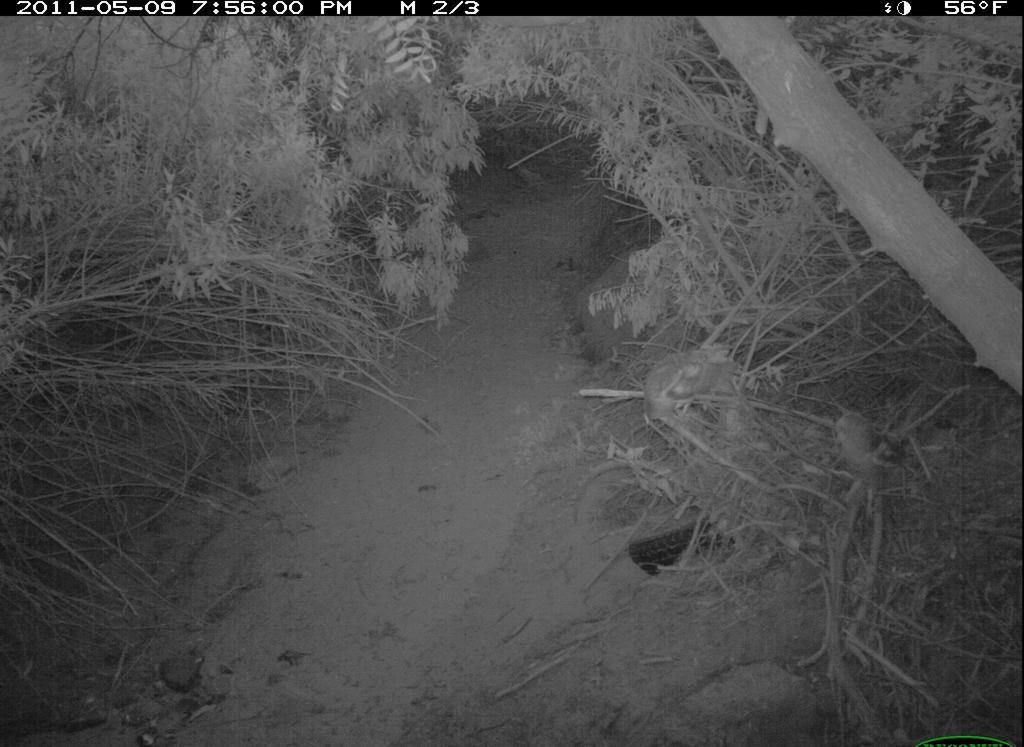bird: (633, 338, 756, 432), (830, 411, 910, 523)
